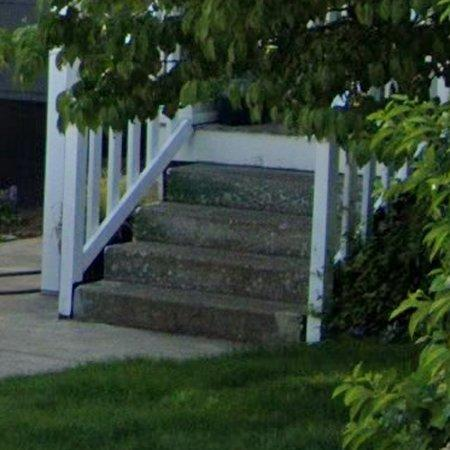stairs: (74, 163, 314, 345)
